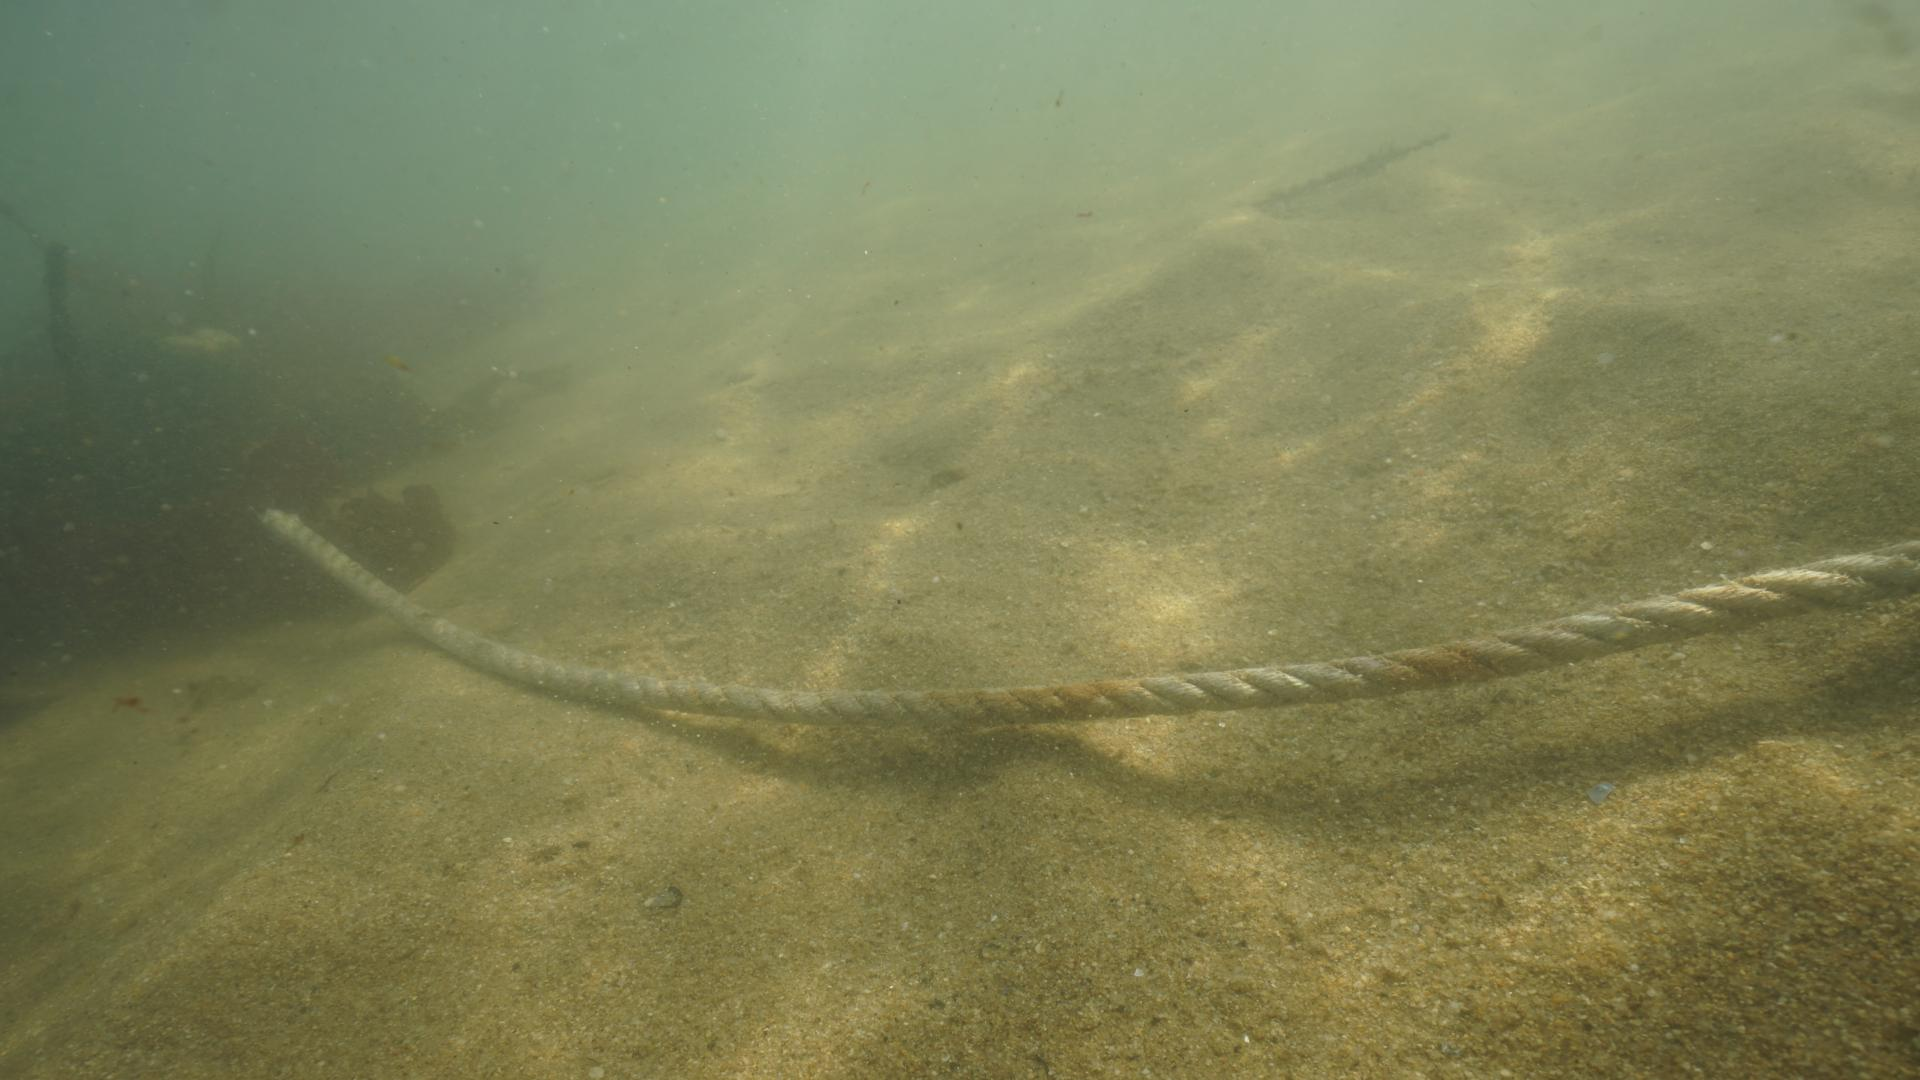rope: (240, 495, 1920, 725)
